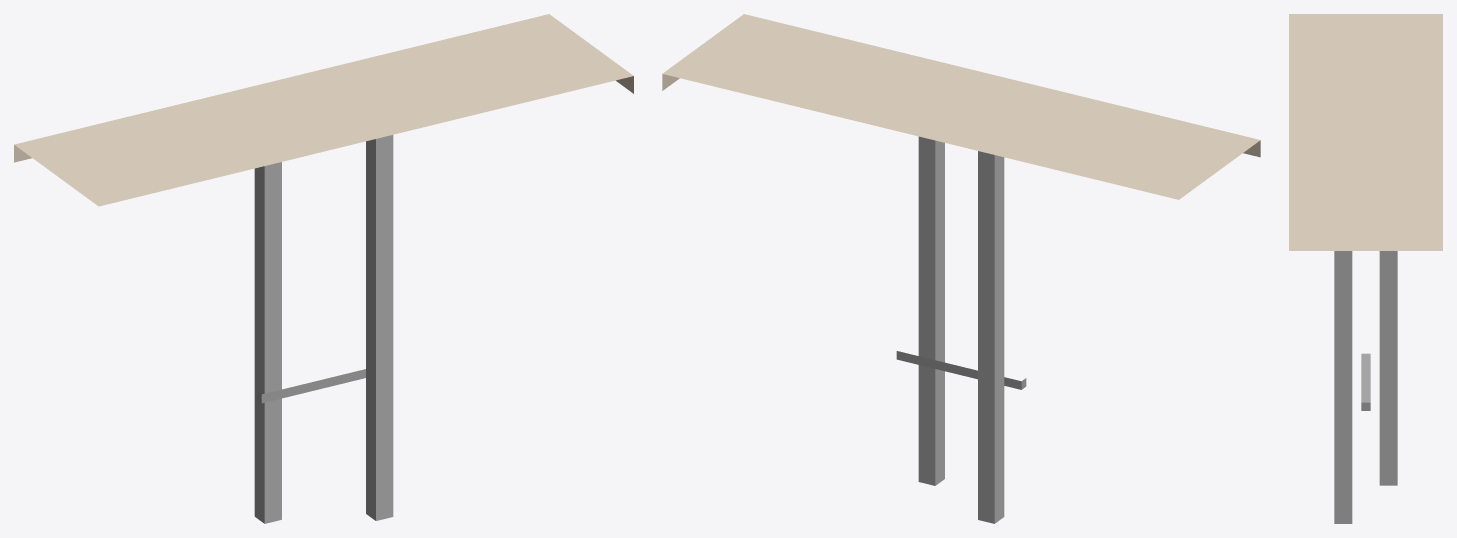
File: ironingBoard.glb
3 views of the same model, side by side, from view 1: azimuth 30°, elevation 25°; view 2: azimuth 150°, elevation 25°; view 3: azimuth 270°, elevation 25° (orthographic). The views are drawn at different scales.
Bounding box in the file's own units: 1.24 × 0.9 × 0.34.
